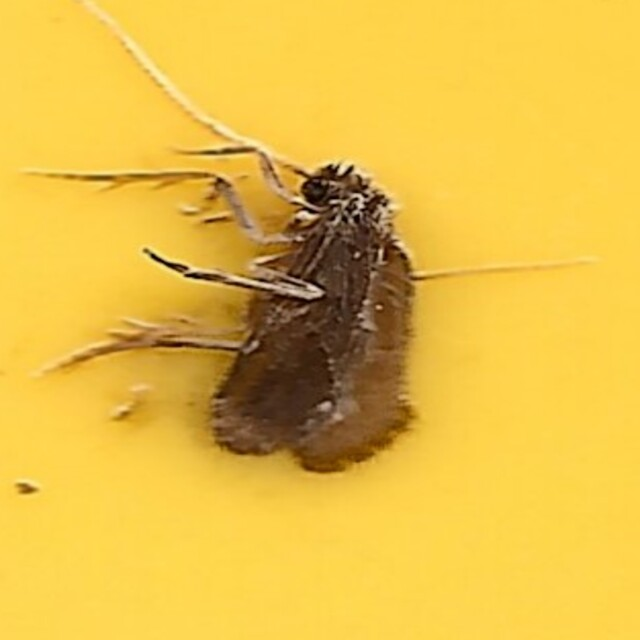Trichoptera: (204, 156, 436, 484)
